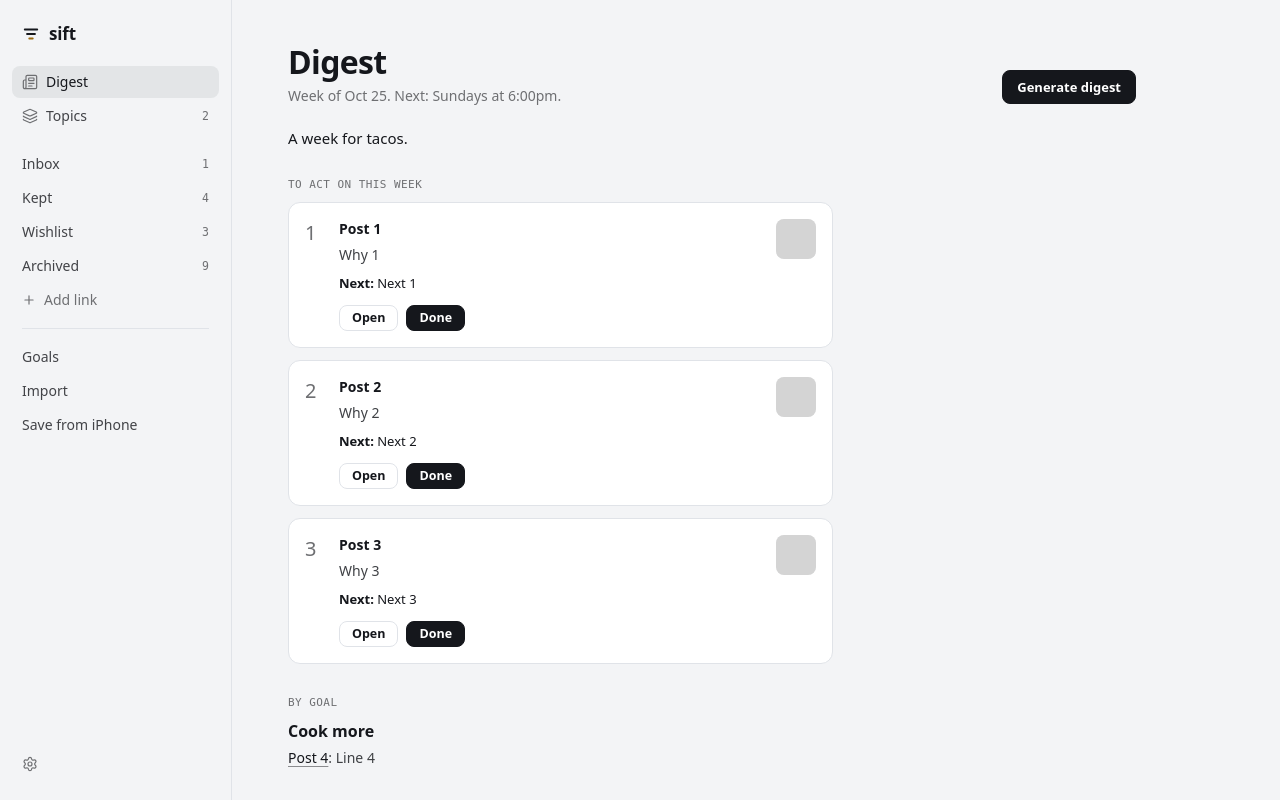
Test: digest › marks a pick done and shows the next one in its place
Step 1. Click the button with aria-label "Done: Post 1" → {"x": 436, "y": 318}, box [406,305,465,331]
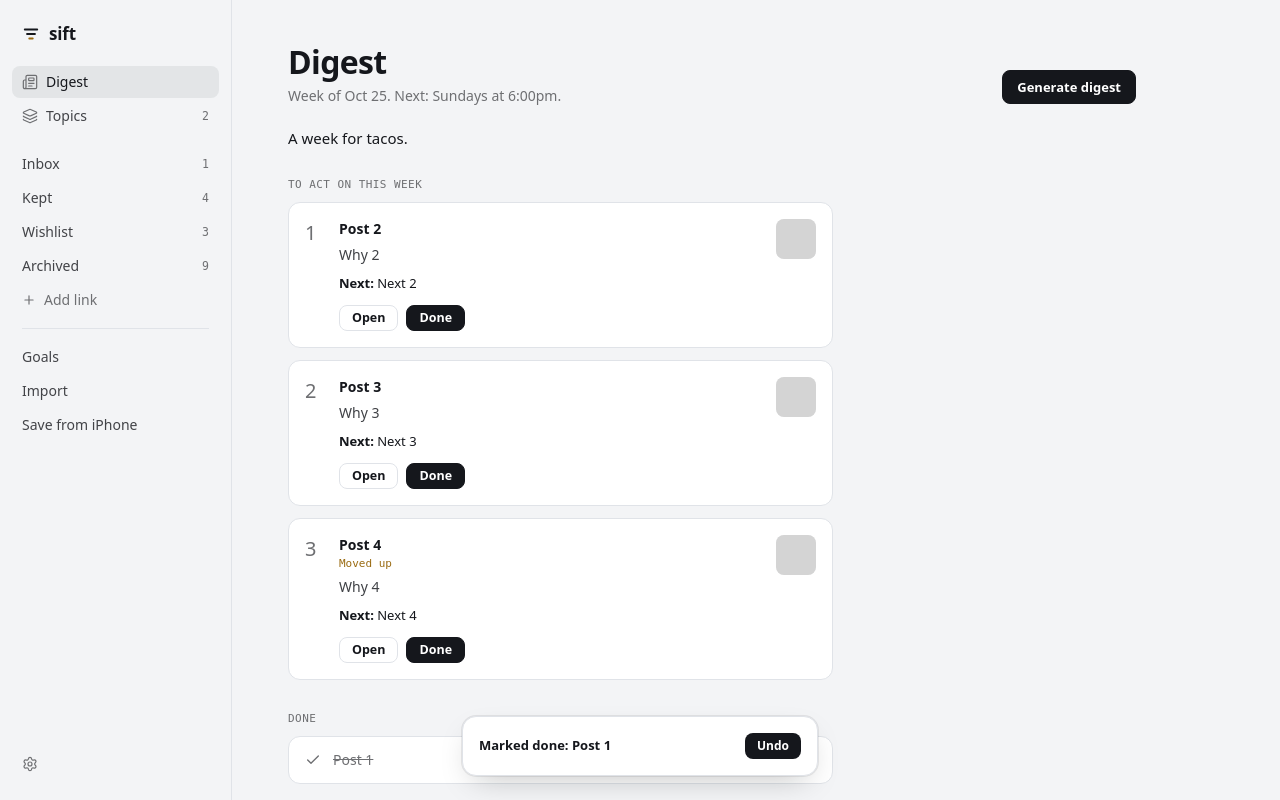
Result: the button with aria-label "Undo: Post 1" is shown at [756,747,816,773]
